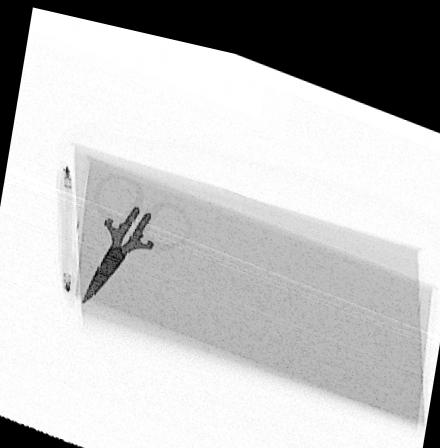Scissors: (80, 166, 195, 302)
